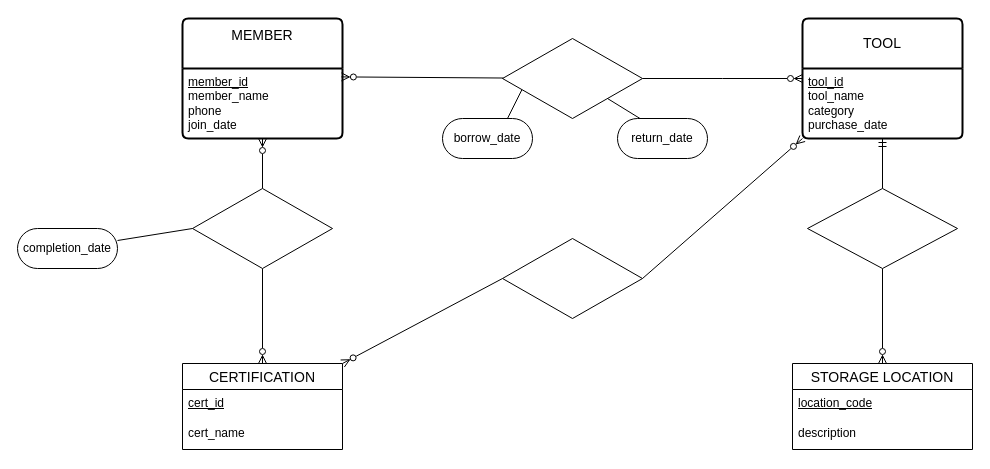
Some shapes in this 990 by 469 pixel diagram are drawn without their labels. Each missing label, with the centre of its shape:
"BELONGS TO" goes at point 882,228.
"BORROWS" goes at point 572,78.
"COMPLETES" goes at point 262,228.
"REQUIRES" goes at point 572,278.
